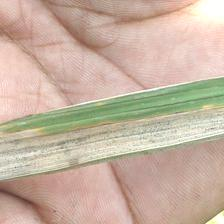2 BacterialBlight: (32, 111, 224, 162)
